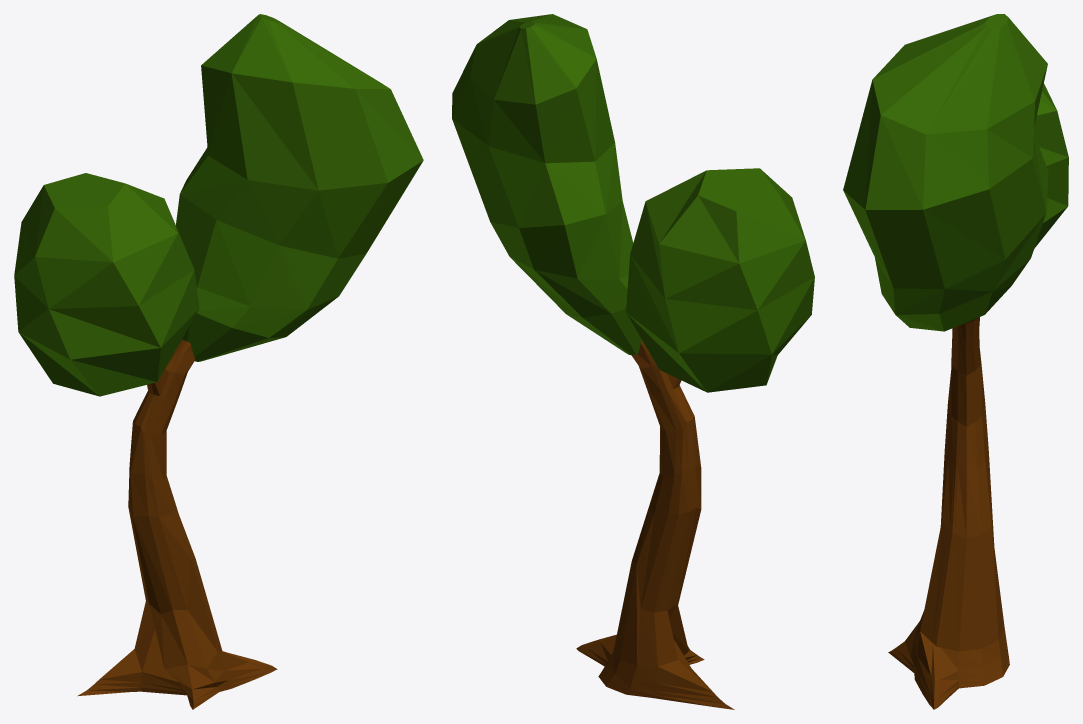
The model's file is Proto_Vegetation_Tree_Generic_01.fbx.
3 renders of one model, left to right at view 1: azimuth 30°, elevation 25°; view 2: azimuth 150°, elevation 25°; view 3: azimuth 270°, elevation 25°, orthographic. The views are drawn at different scales.
Parts seen in each view (by area): view 1: Proto_Vegetation_Tree_Generic_01; view 2: Proto_Vegetation_Tree_Generic_01; view 3: Proto_Vegetation_Tree_Generic_01.
Part boxes in pixels (box(x1,y1,x2,y2)): Proto_Vegetation_Tree_Generic_01: box(14, 14, 423, 709); Proto_Vegetation_Tree_Generic_01: box(452, 14, 814, 709); Proto_Vegetation_Tree_Generic_01: box(843, 14, 1068, 709).
Size of the model in its own units: 1.39 by 2.33 by 0.6781.
